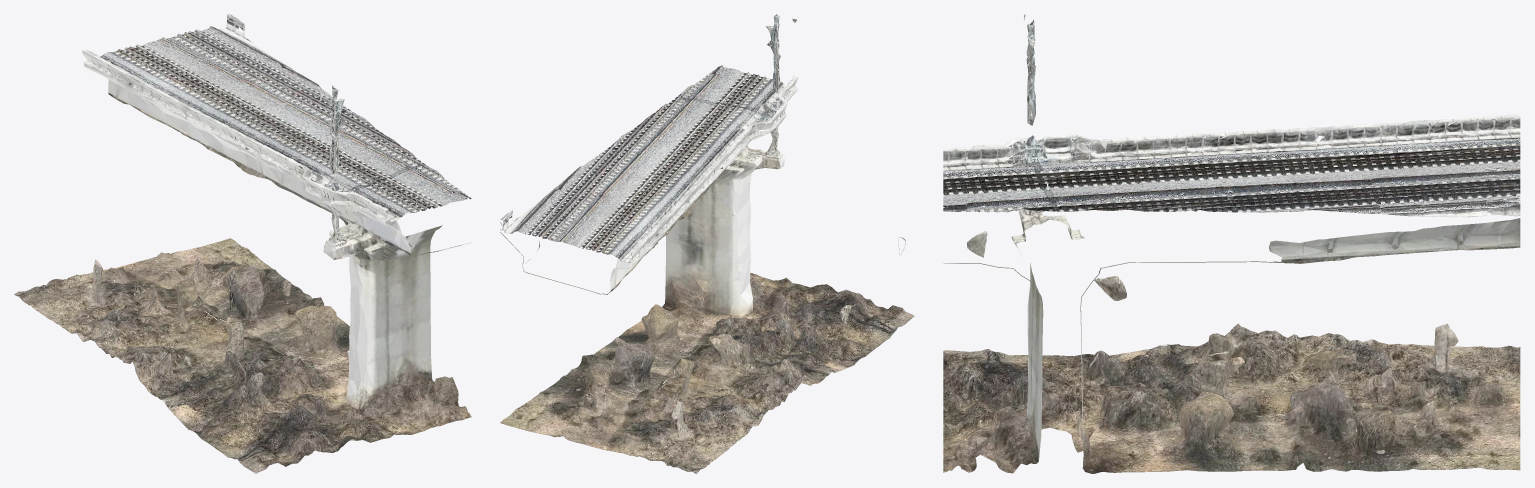
File: Block_L20_414.glb
The picture shows the model from 3 angles, left to right: view 1: azimuth 30°, elevation 25°; view 2: azimuth 150°, elevation 25°; view 3: azimuth 270°, elevation 25°; orthographic projection. The views are drawn at different scales.
Visible parts, largest first — view 1: rtc; view 2: rtc; view 3: rtc.
Boxes of the visible parts, x1,y1,x2,y2 form: rtc: (14,14,471,473); rtc: (500,14,914,473); rtc: (943,14,1520,473).
Bounding box in the file's own units: 18.27 × 27.38 × 35.29.
2 materials, 2 textured.
